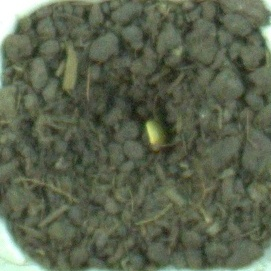pepper seed: (58, 41, 230, 194)
